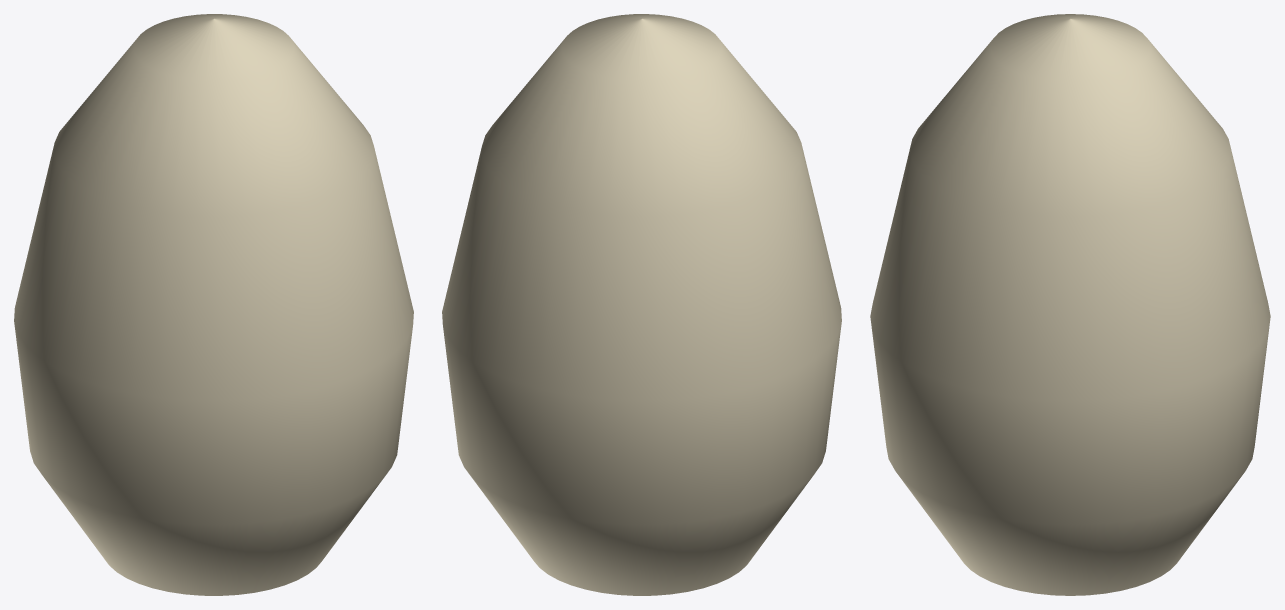
Rendered from props_p10__p10_egg.glb.
3 views of the same model, side by side, from view 1: azimuth 30°, elevation 25°; view 2: azimuth 150°, elevation 25°; view 3: azimuth 270°, elevation 25° (orthographic).
Visible parts, largest first — view 1: eggshell; view 2: eggshell; view 3: eggshell.
Boxes of the visible parts, x1=… form: eggshell: x1=14, y1=14, x2=413, y2=595; eggshell: x1=442, y1=14, x2=841, y2=595; eggshell: x1=870, y1=14, x2=1270, y2=595.
Bounding box in the file's own units: 0.0371 × 0.0572 × 0.0371.
